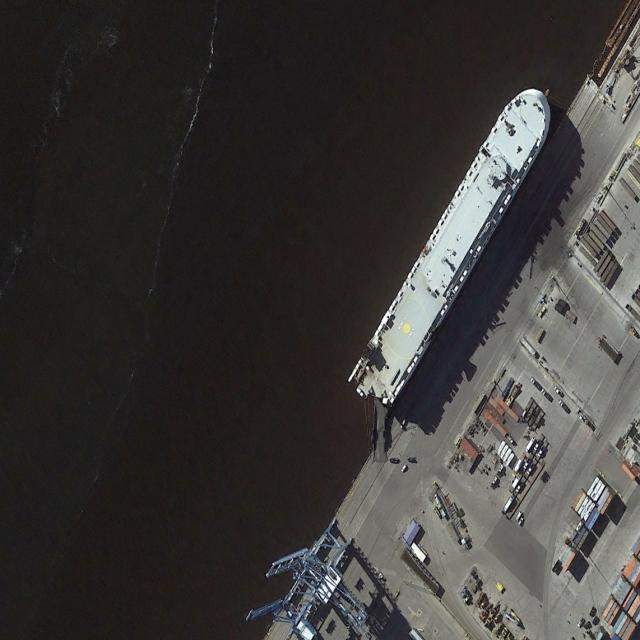RoRo: (346, 71, 563, 422)
